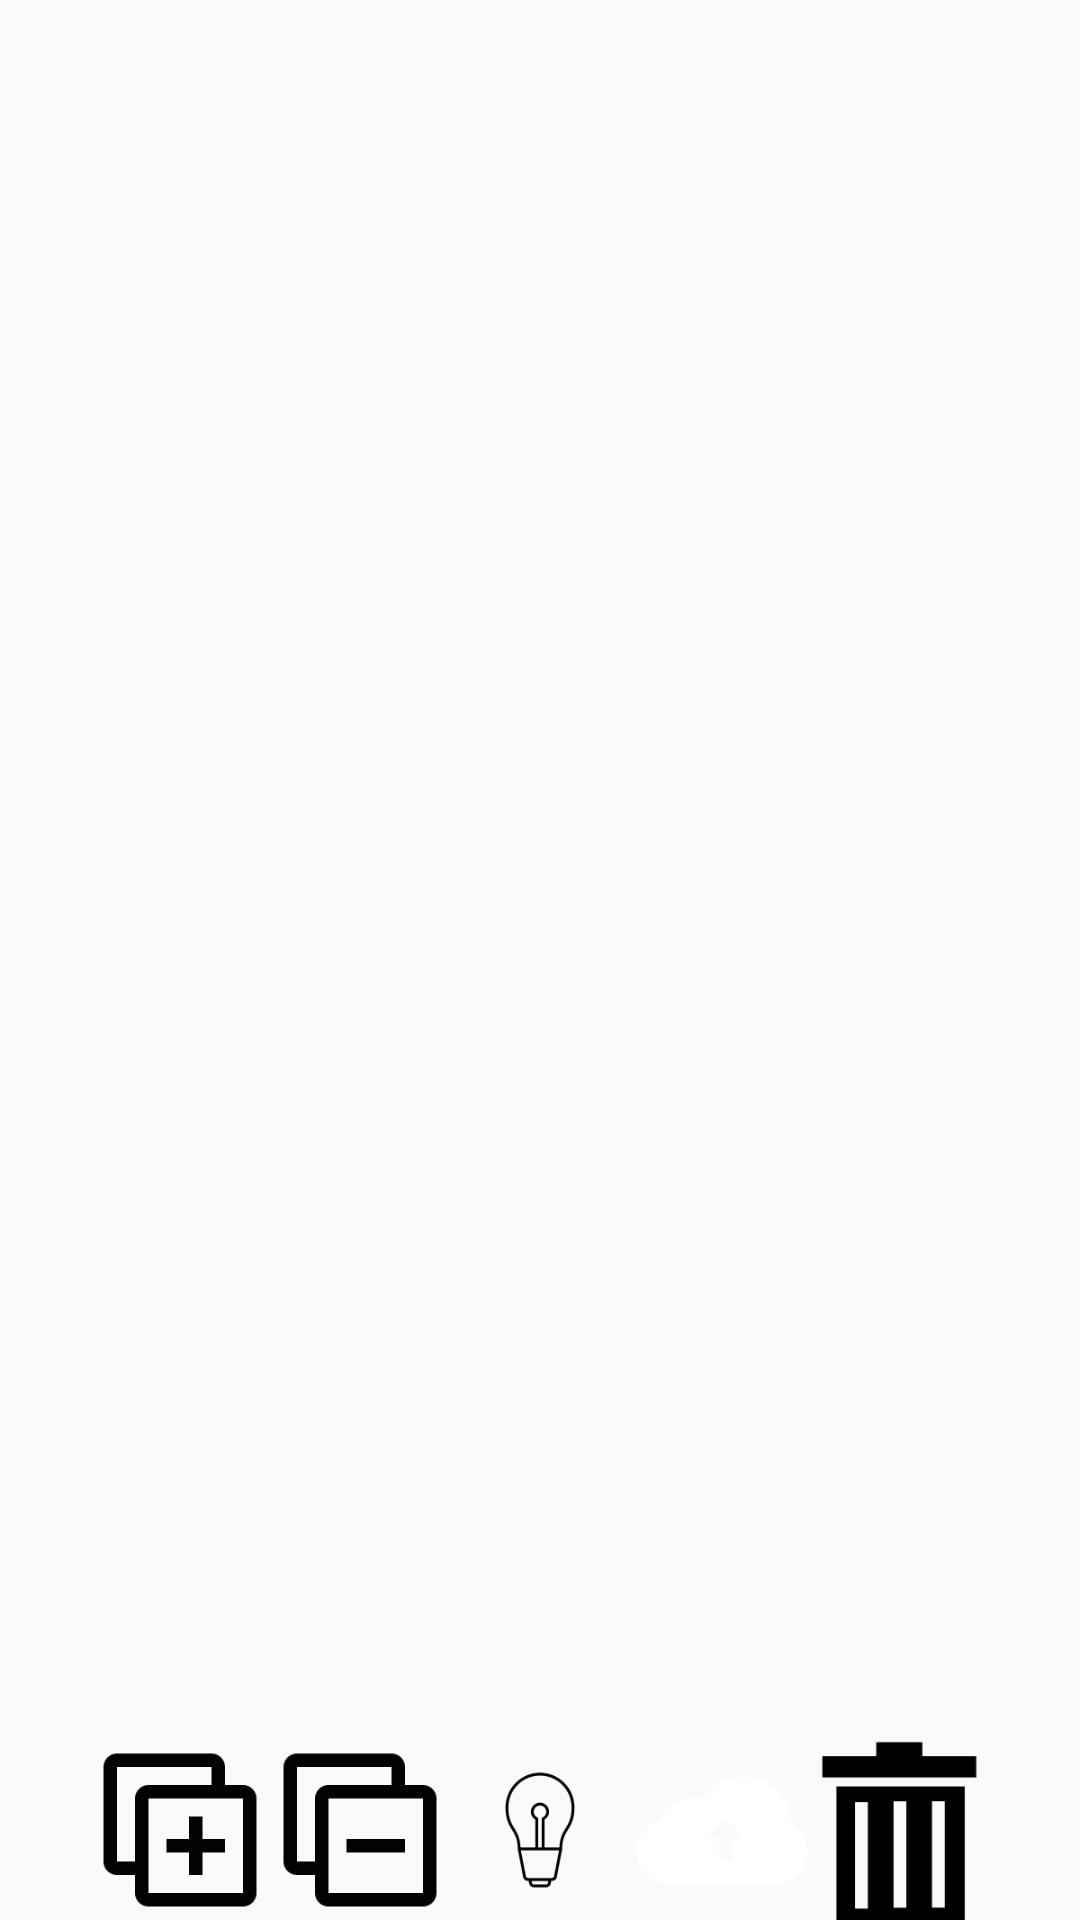

Where icons sit on this 1080w x 1920h app screen, as (x1, y1, x2, y2):
add state: (103, 1753, 257, 1907)
apply ambiance: (505, 1772, 575, 1888)
delete ambiance: (822, 1741, 977, 1920)
delete state: (283, 1753, 437, 1907)
